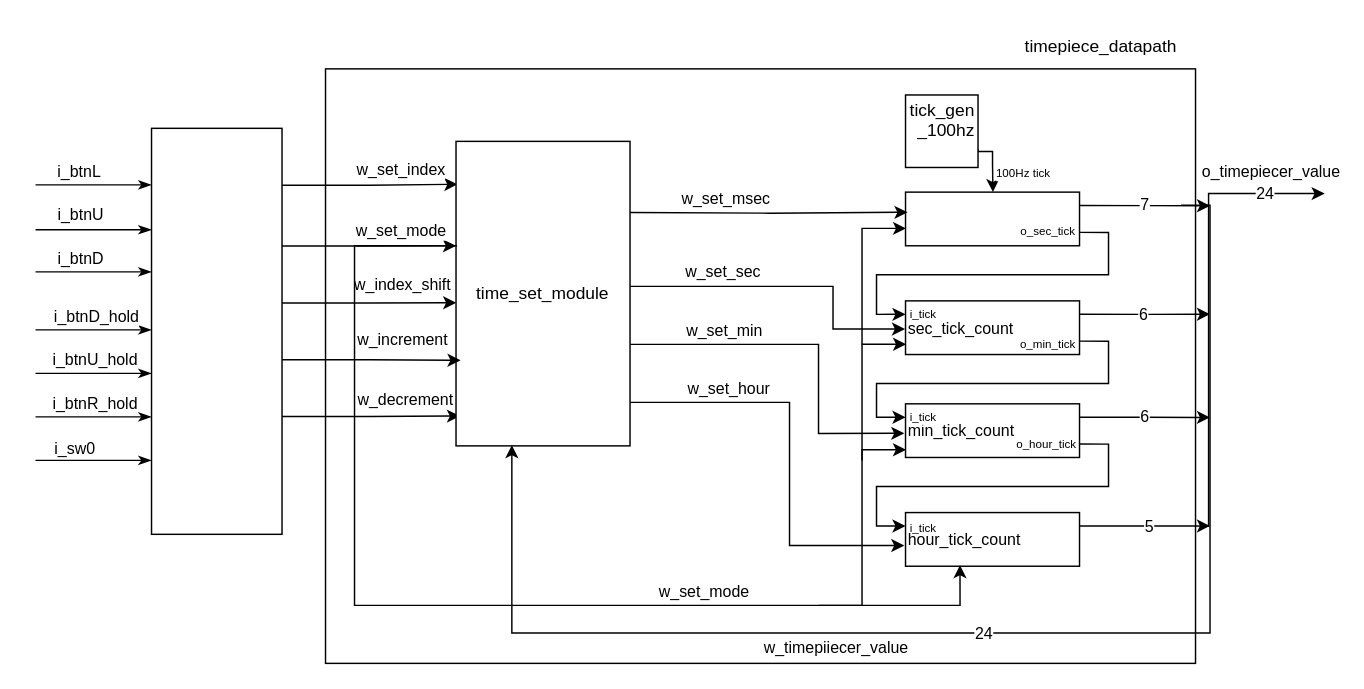
This 1364x689 diagram has some shape labels left out. The box of each missing label's shape, as (x1, y1, x2, y2) in pixels:
msec_tick_count: (904, 191, 1080, 246)
timepiece_fsm: (150, 127, 282, 534)
